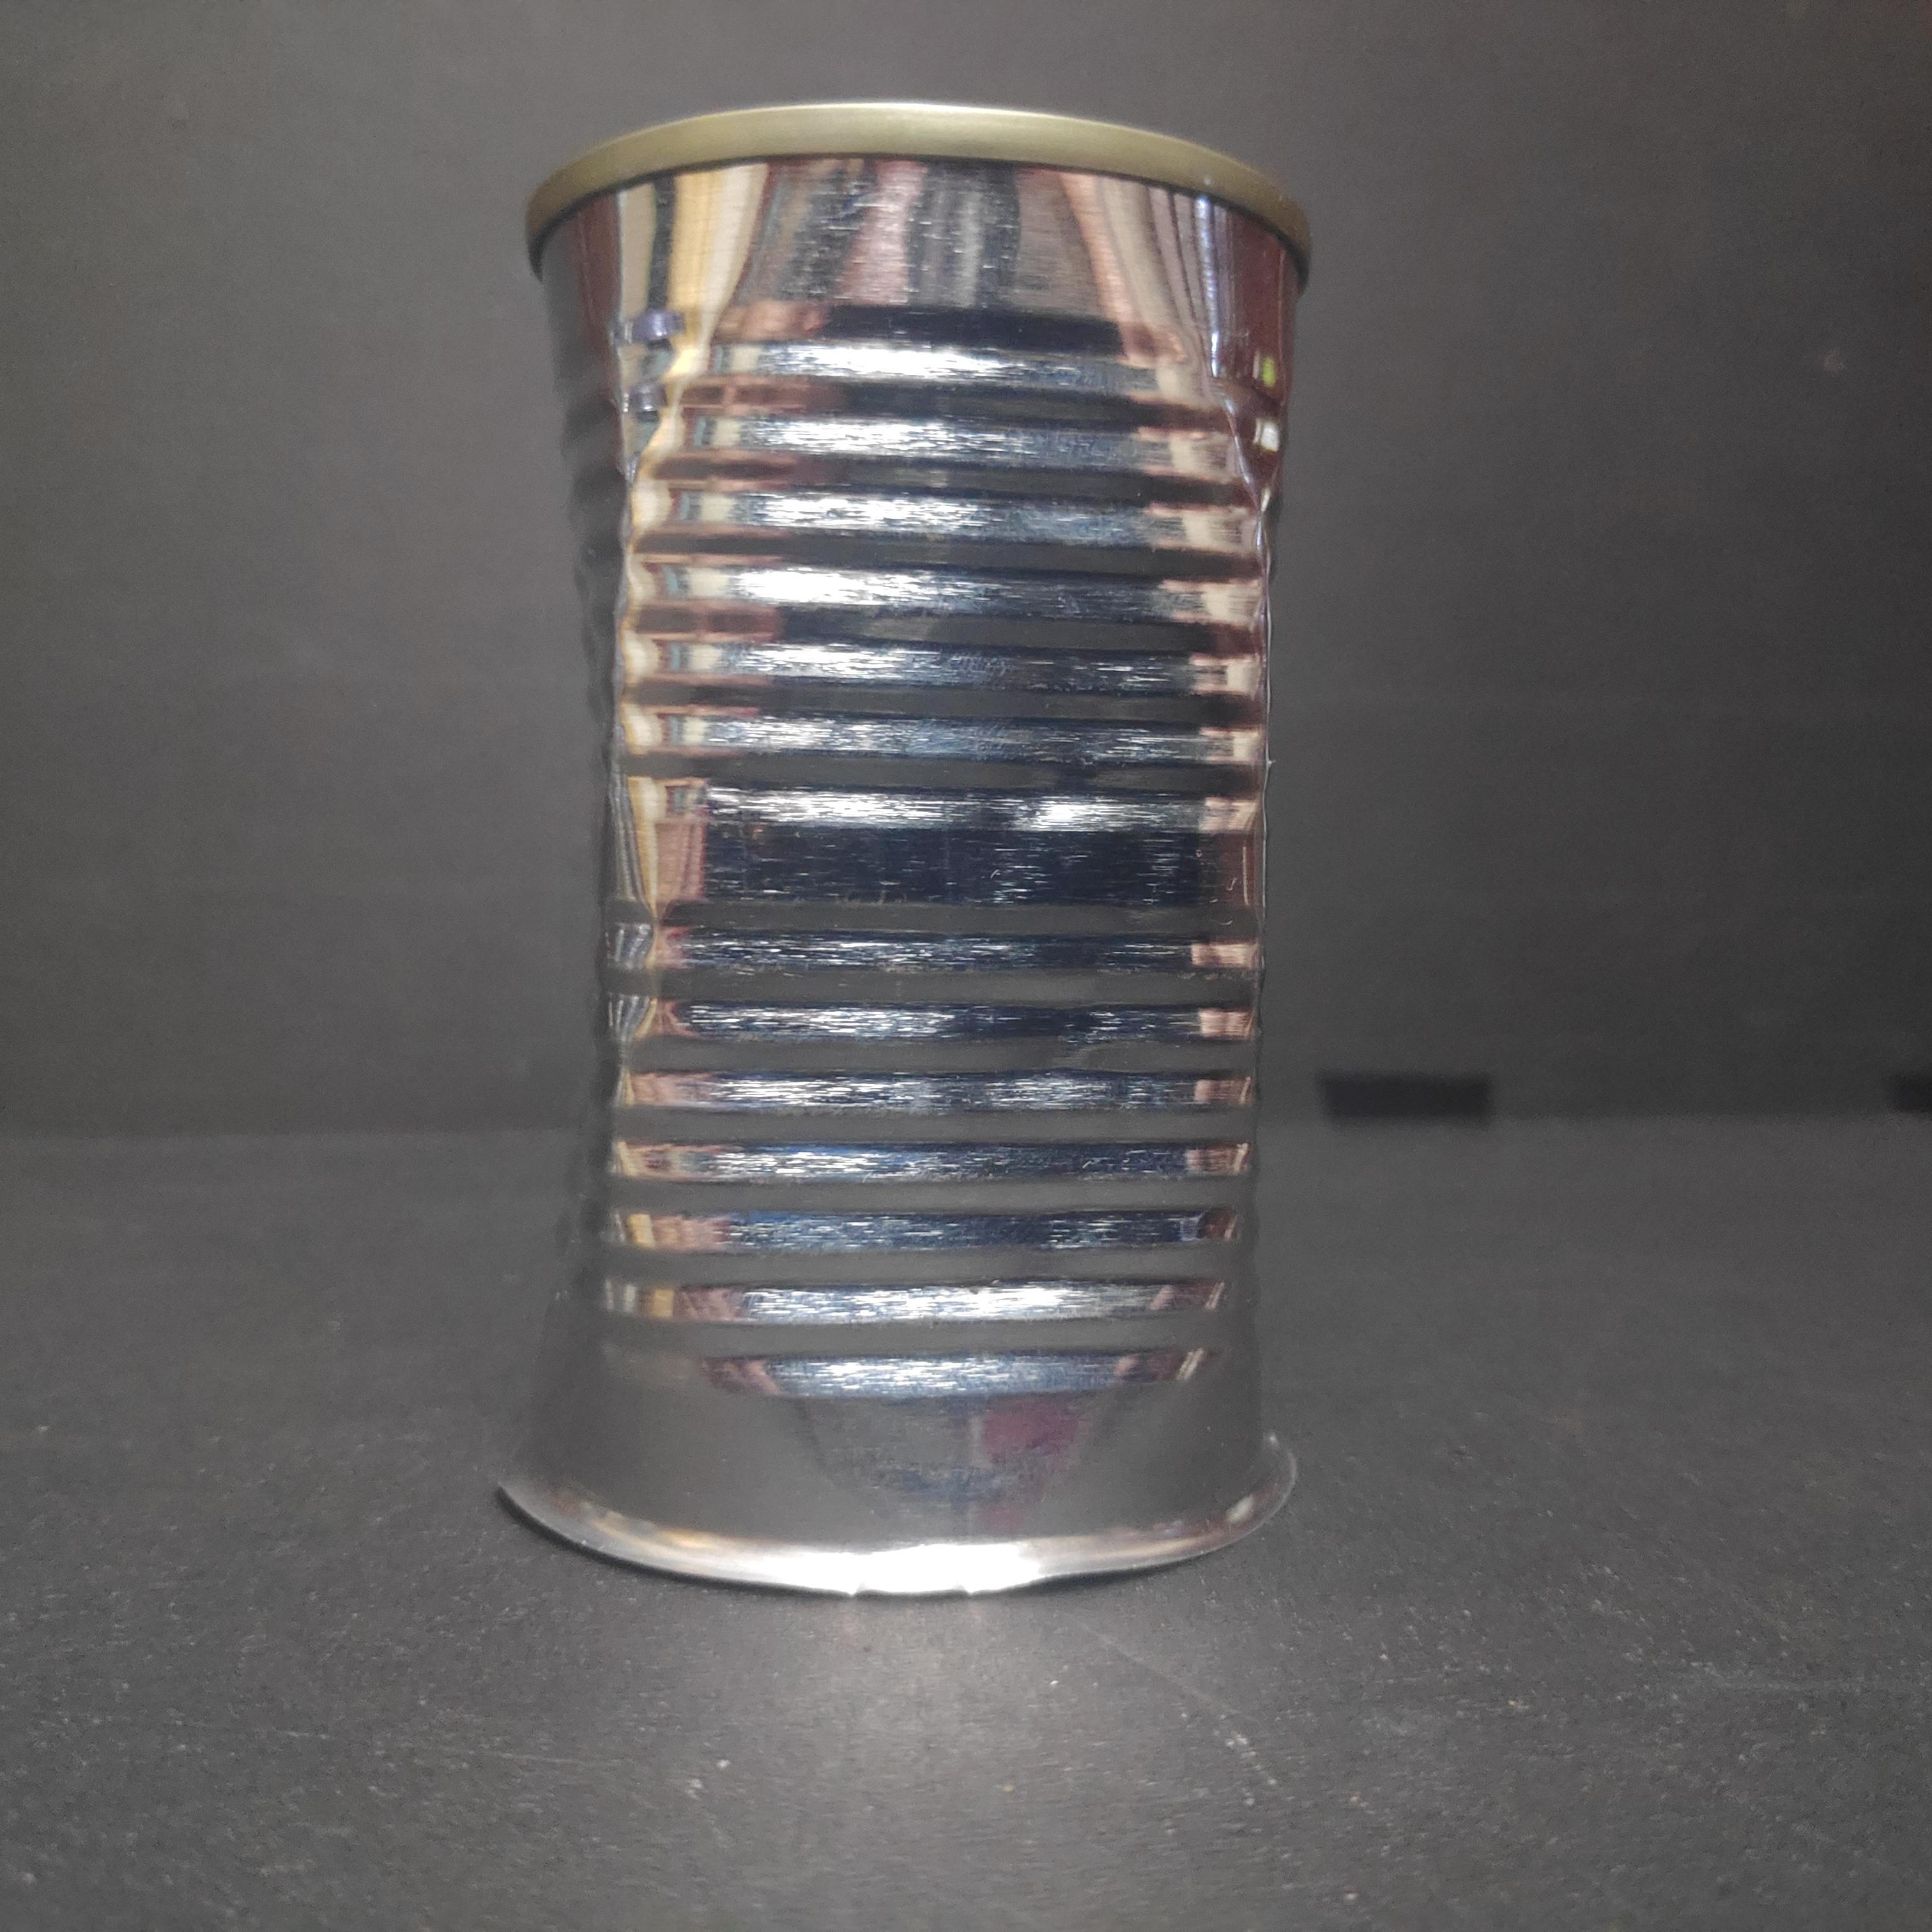Dented: (495, 76, 1341, 1638)
